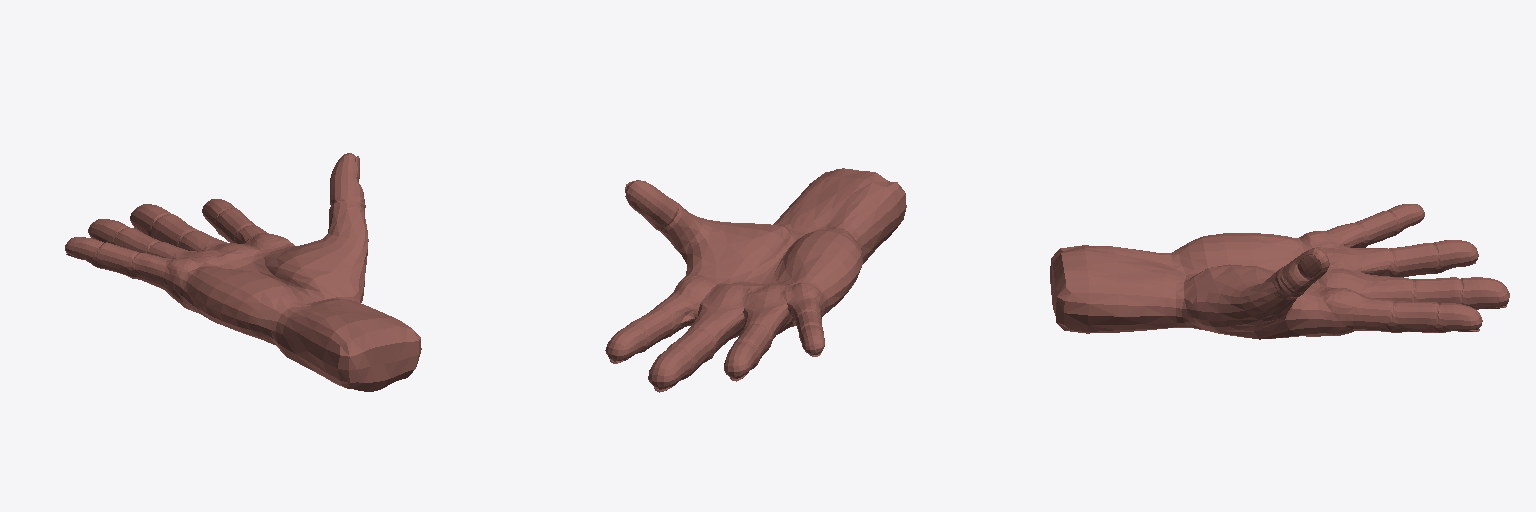
File: hand_right.obj
3 renders of one model, left to right at view 1: azimuth 30°, elevation 25°; view 2: azimuth 150°, elevation 25°; view 3: azimuth 270°, elevation 25°, orthographic.
Visible parts, largest first — view 1: Mesh1 realistic_hand_right1 Model; view 2: Mesh1 realistic_hand_right1 Model; view 3: Mesh1 realistic_hand_right1 Model.
Part boxes in pixels (bbox=[...]): Mesh1 realistic_hand_right1 Model: bbox=[65, 153, 421, 391]; Mesh1 realistic_hand_right1 Model: bbox=[605, 168, 906, 392]; Mesh1 realistic_hand_right1 Model: bbox=[1050, 204, 1509, 339].
Bounding box in the file's own units: 0.1671 × 0.0803 × 0.2715.